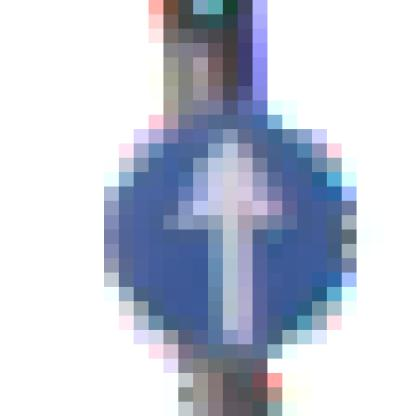AheadOnly: (90, 87, 343, 331)
